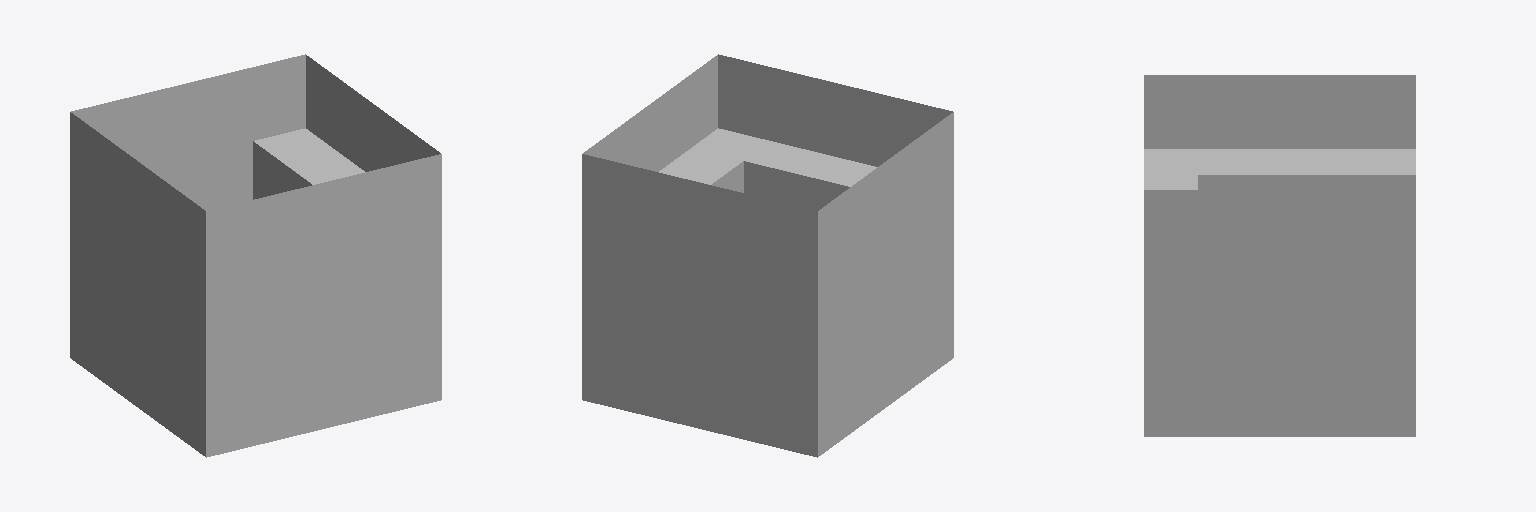
The model's file is doortile.obj.
3 views of the same model, side by side, from view 1: azimuth 30°, elevation 25°; view 2: azimuth 150°, elevation 25°; view 3: azimuth 270°, elevation 25° (orthographic).
Parts seen in each view (by area): view 1: Plane; view 2: Plane; view 3: Plane.
Part boxes in pixels (x1,y1,x2,y2): Plane: (70, 54, 441, 457); Plane: (582, 54, 953, 457); Plane: (1144, 75, 1415, 436).
Bounding box in the file's own units: 1 × 1 × 1.